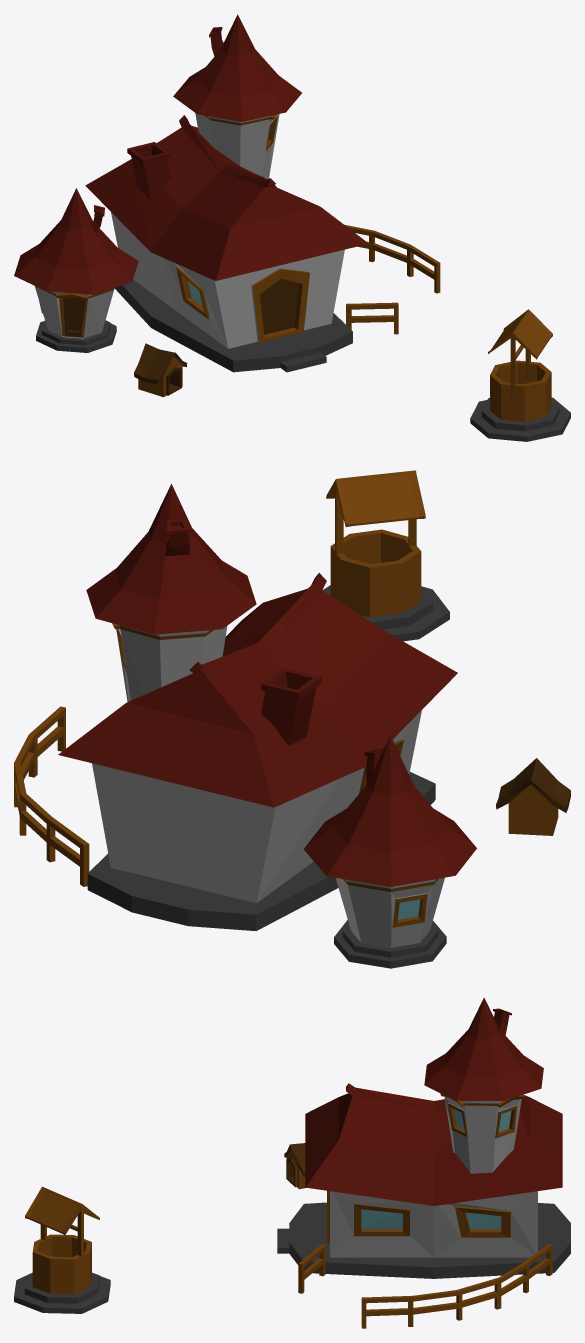
Rendered from vilageHouse.dae.
3 views of the same model, one above another, from view 1: azimuth 30°, elevation 25°; view 2: azimuth 150°, elevation 25°; view 3: azimuth 270°, elevation 25° (orthographic). The views are drawn at different scales.
Visible parts, largest first — view 1: house, smallHut, tower, well, fence, dogHouse; view 2: house, smallHut, tower, well, fence, dogHouse; view 3: house, tower, well, fence, dogHouse.
Boxes of the visible parts, x1=… form: house: x1=85, y1=115, x2=368, y2=372; smallHut: x1=14, y1=188, x2=138, y2=352; tower: x1=173, y1=14, x2=301, y2=179; well: x1=470, y1=309, x2=570, y2=441; fence: x1=344, y1=224, x2=440, y2=334; dogHouse: x1=134, y1=343, x2=187, y2=397; house: x1=58, y1=573, x2=457, y2=930; smallHut: x1=303, y1=735, x2=476, y2=968; tower: x1=86, y1=483, x2=256, y2=701; well: x1=322, y1=470, x2=449, y2=641; fence: x1=14, y1=706, x2=89, y2=886; dogHouse: x1=496, y1=758, x2=570, y2=835; house: x1=277, y1=1083, x2=570, y2=1278; tower: x1=424, y1=997, x2=543, y2=1173; well: x1=14, y1=1186, x2=110, y2=1313; fence: x1=298, y1=1244, x2=552, y2=1328; dogHouse: x1=284, y1=1143, x2=306, y2=1189.
Bounding box in the file's own units: 17.8 × 24.65 × 13.75.
